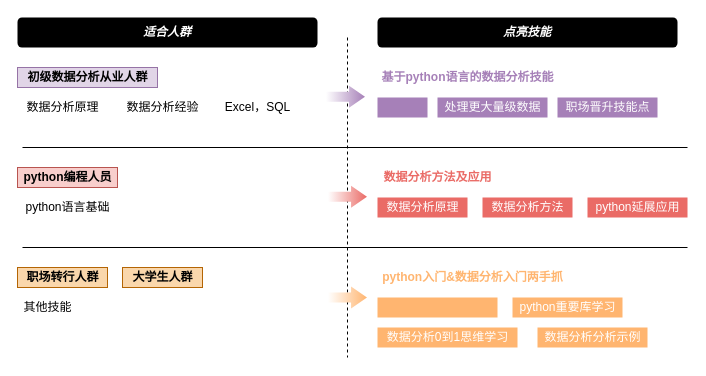
This 706x376 diagram has some shape labels left out. The centre of each missing label's shape, as x and y in pixels:
"python语言入门基础" belongs at pixel 437 307.
"更高效" belongs at pixel 402 107.
